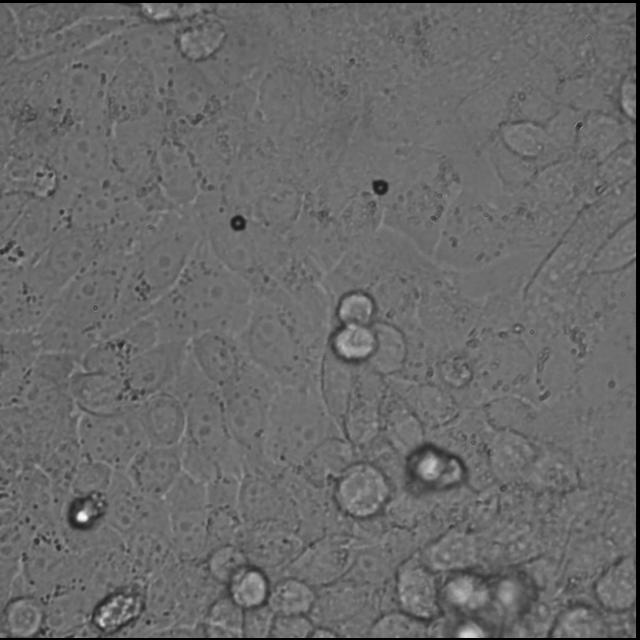microbeads: (370, 176, 388, 194), (230, 214, 248, 232)
